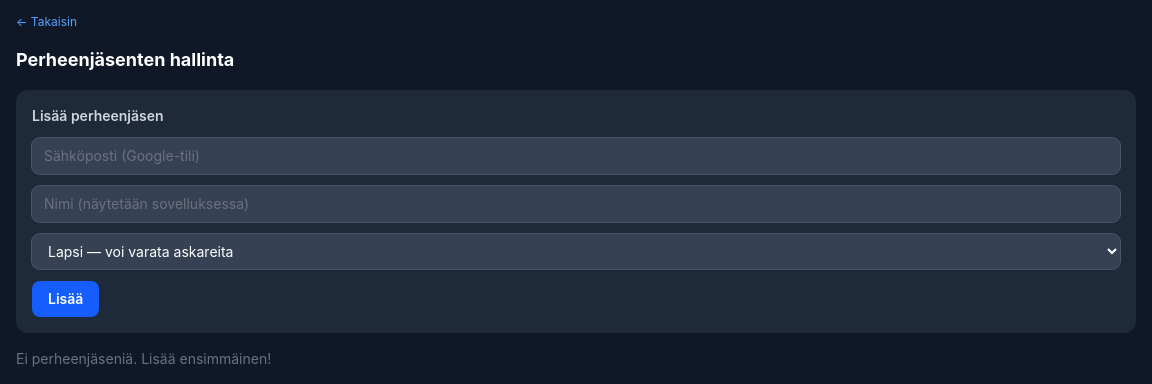
Scenario: UsersManagerView › validates email format
The image size is (1152, 384).
Type "ei-email" into the field with placeholder "Sähköposti (Google-tili)". click: (576, 156)
box: x1=32 y1=138 x2=1120 y2=174
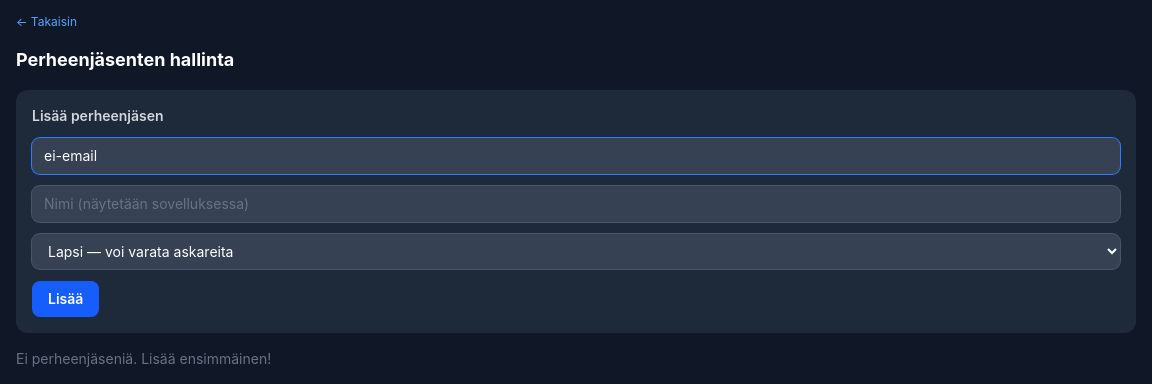
Type "X" into the field with placeholder "Nimi (näytetään sovelluksessa)". click: (576, 204)
box: x1=32 y1=186 x2=1120 y2=222
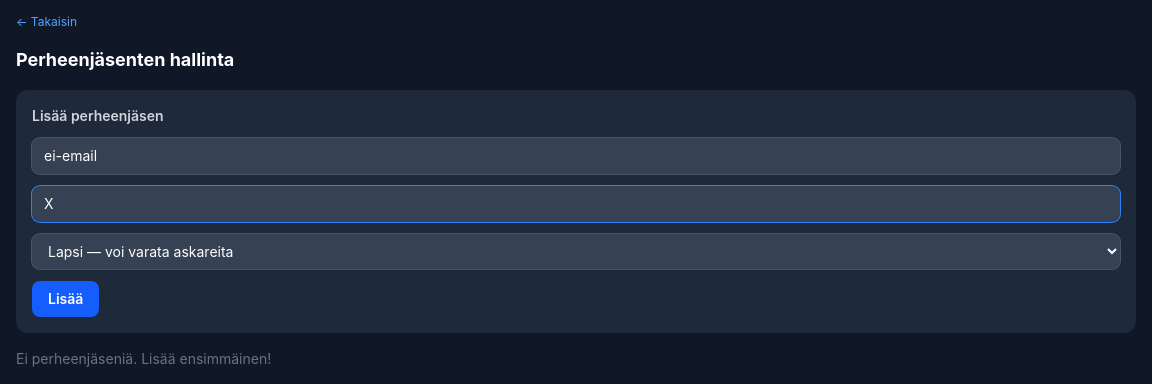
Submit the form
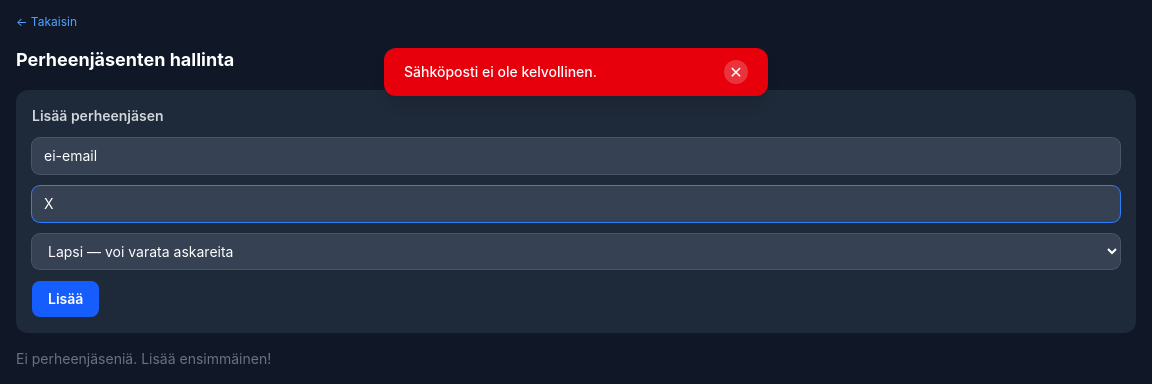
Result: the text "Sähköposti ei ole kelvollinen." is shown at x1=404 y1=63 x2=597 y2=80
